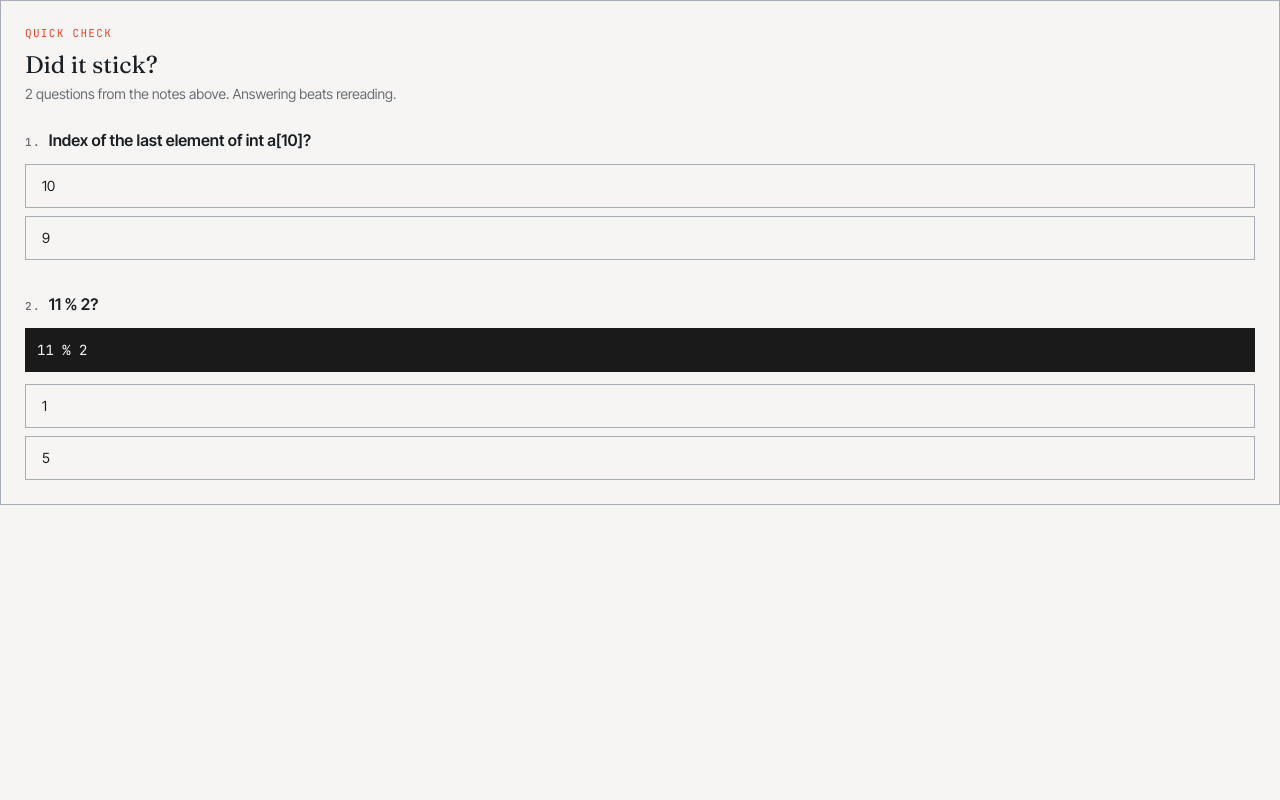
Test case: QuickCheck › shows a score once every question is answered
Click the button "9" at (46, 237), box [25,216,1255,260]
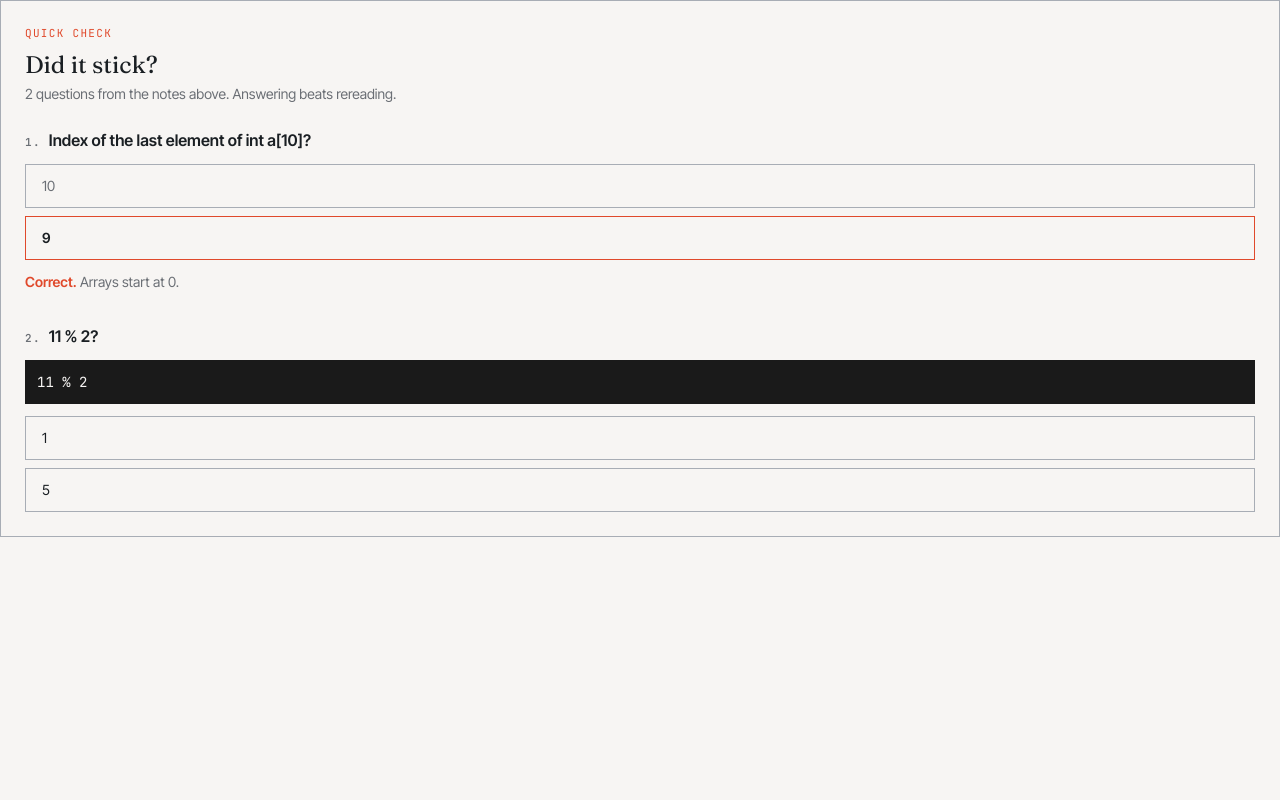
Check: the text "of 2 right" is not shown
Click the button "5" at (46, 489), box [25,468,1255,512]
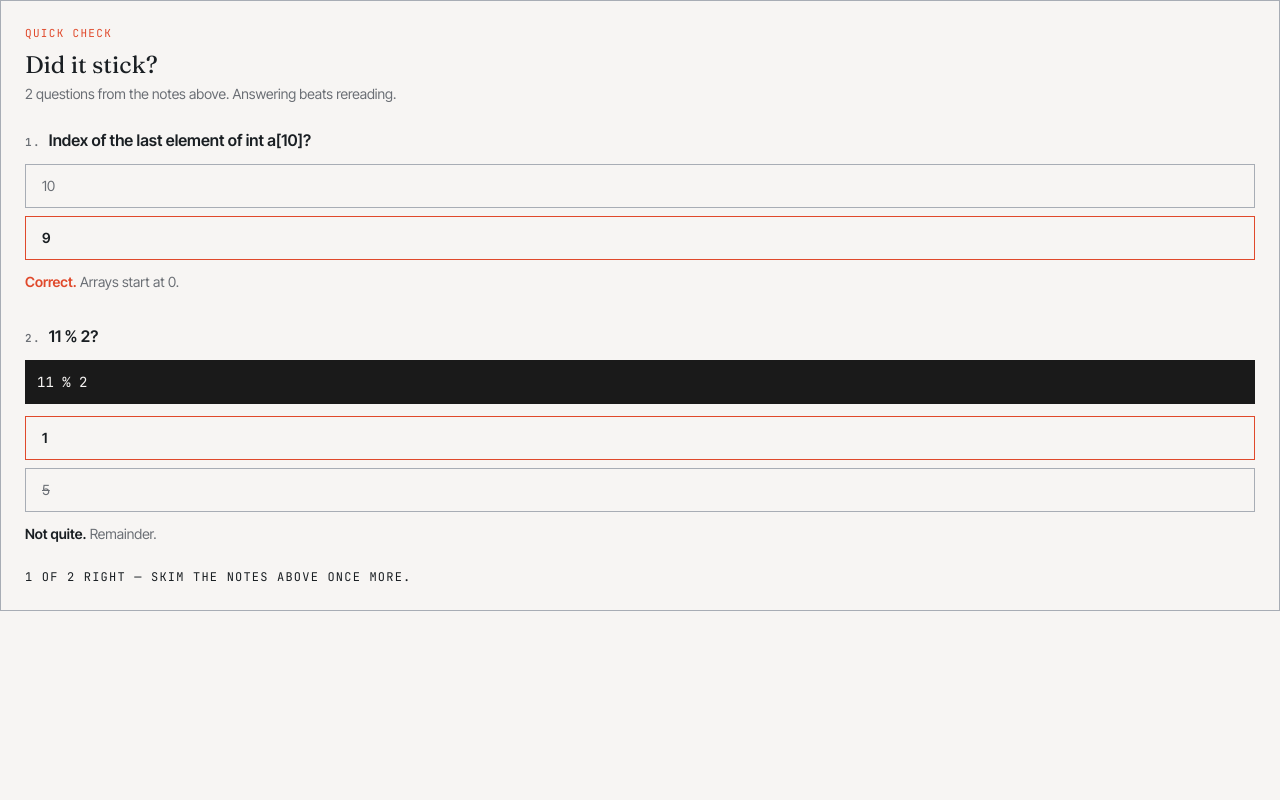
Check: the text "1 of 2 right — skim the notes above once more." is shown, box [25,568,411,584]
